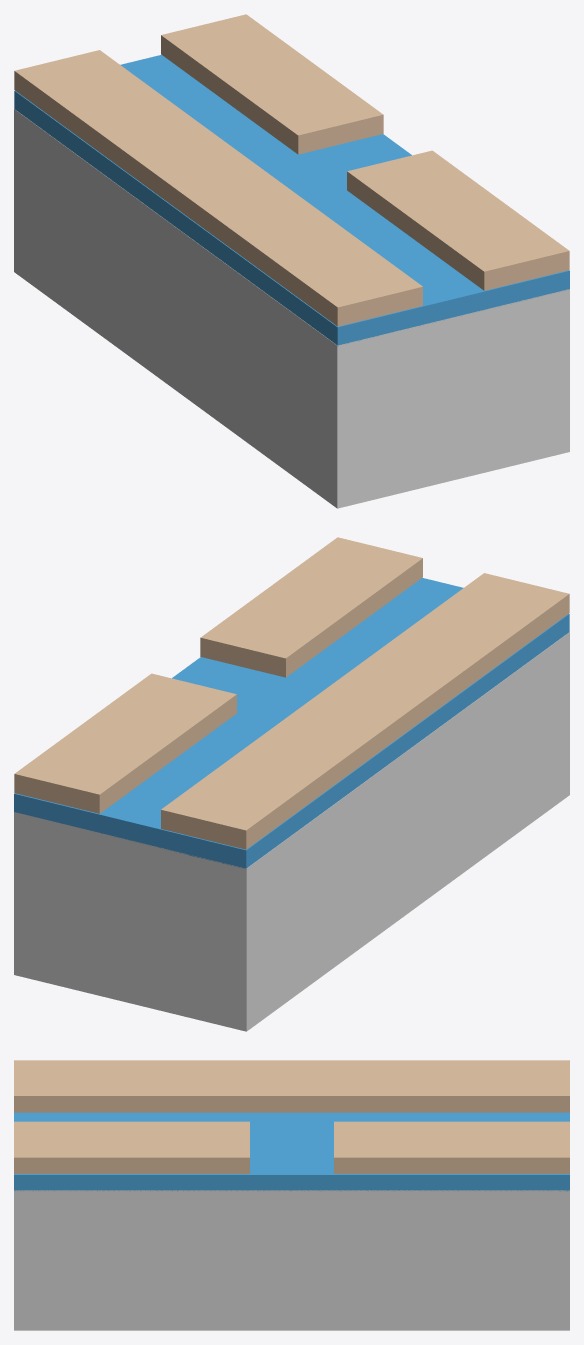
The model's file is photolithography.gltf.
3 views of the same model, one above another, from view 1: azimuth 30°, elevation 25°; view 2: azimuth 150°, elevation 25°; view 3: azimuth 270°, elevation 25° (orthographic). The views are drawn at different scales.
Visible parts, largest first — view 1: Cube, Cube.003, Cube.002, Cube.004, Cube.001; view 2: Cube, Cube.003, Cube.002, Cube.004, Cube.001; view 3: Cube, Cube.003, Cube.002, Cube.004, Cube.001.
Part boxes in pixels (x1,y1,x2,y2): Cube: (14,109,569,508); Cube.003: (14,50,422,326); Cube.002: (14,55,569,346); Cube.004: (347,150,569,290); Cube.001: (161,14,383,154); Cube: (14,632,569,1031); Cube.003: (161,573,569,849); Cube.002: (14,578,569,868); Cube.004: (200,537,422,677); Cube.001: (14,673,236,813); Cube: (14,1190,569,1330); Cube.003: (14,1060,569,1112); Cube.002: (14,1112,569,1191); Cube.004: (14,1121,249,1173); Cube.001: (334,1121,569,1173).
Size of the model in its own units: 2 by 1.65 by 4.82.
